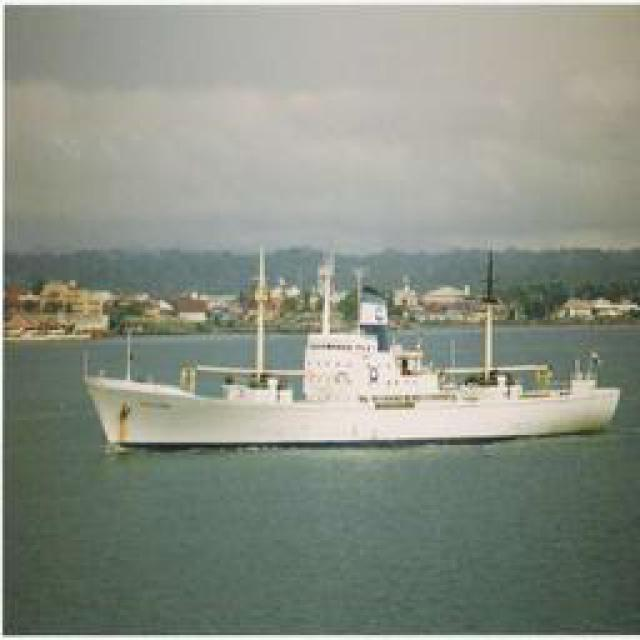Ship: (90, 351, 613, 451)
